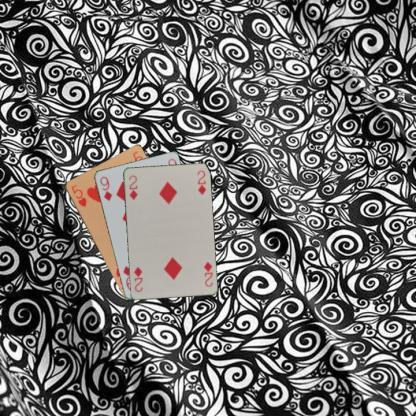2d: (201, 259, 214, 288), (126, 172, 138, 201)
5h: (69, 182, 88, 208)
9d: (97, 174, 113, 202)
